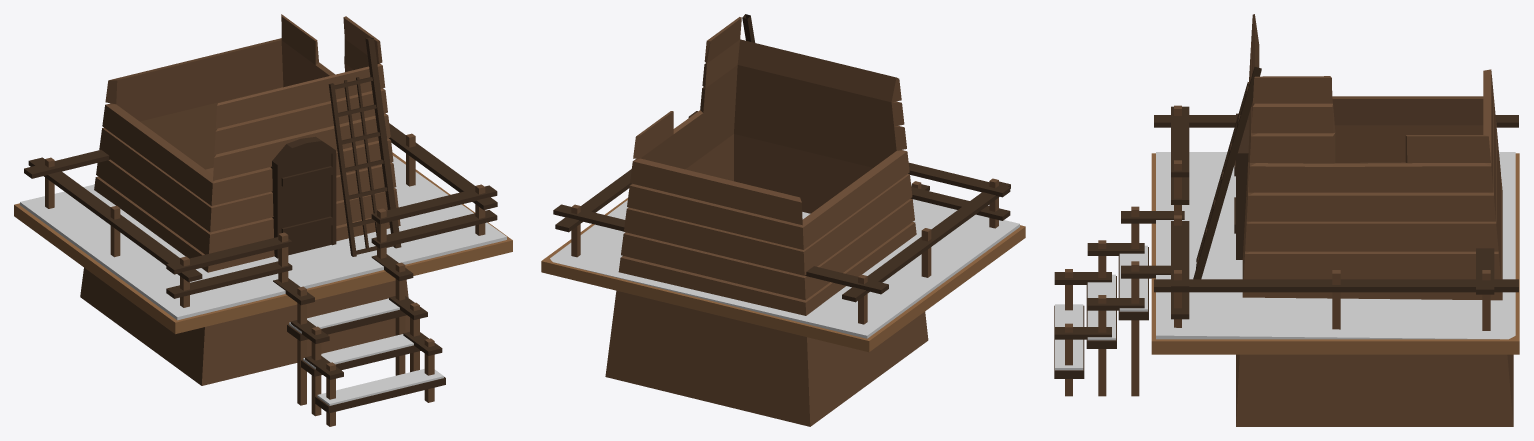
The model's file is windmill_2_build_snow_mat.fbx.
3 renders of one model, left to right at view 1: azimuth 30°, elevation 25°; view 2: azimuth 150°, elevation 25°; view 3: azimuth 270°, elevation 25°, orthographic. The views are drawn at different scales.
Visible parts, largest first — view 1: windmill_2_build_snow_mat; view 2: windmill_2_build_snow_mat; view 3: windmill_2_build_snow_mat.
Boxes of the visible parts, box(x1,y1,x2,y2) form: windmill_2_build_snow_mat: box(14, 14, 512, 426); windmill_2_build_snow_mat: box(541, 14, 1025, 426); windmill_2_build_snow_mat: box(1054, 14, 1519, 426).
Size of the model in its own units: 407 by 342 by 424.
